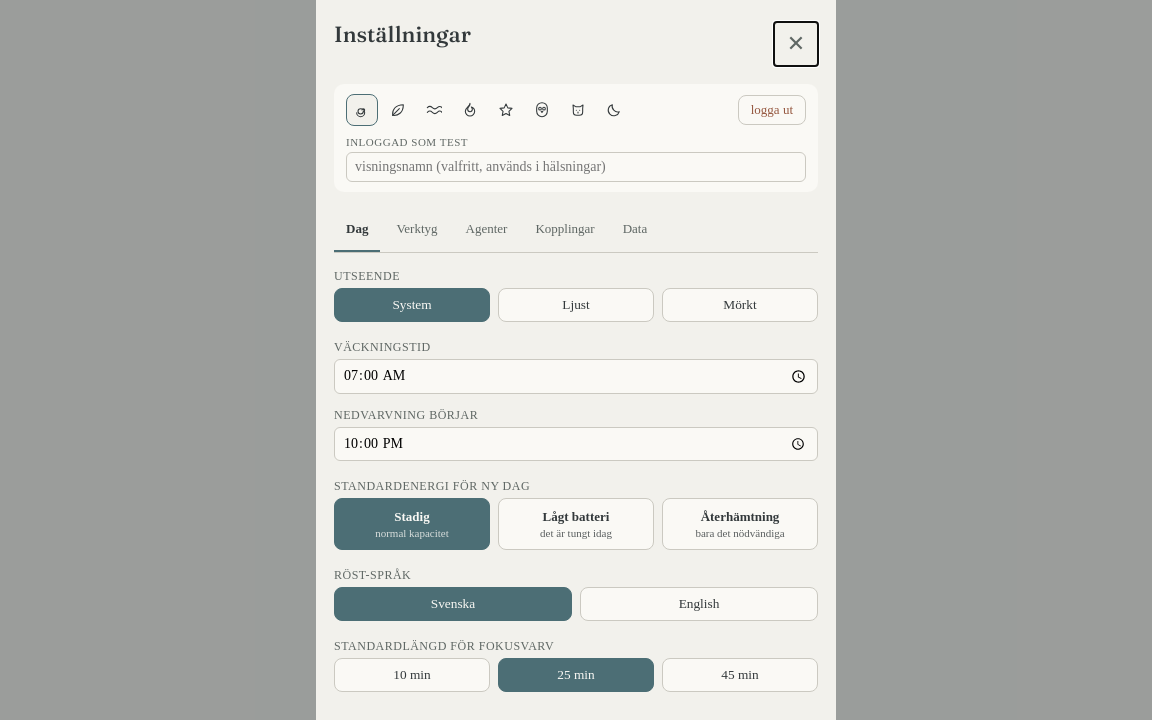
Test: UI usability safeguards › exposes settings as keyboard-oriented tabs with connections in the same dialog
Click the tab "Kopplingar" at (565, 230), box x1=523 y1=208 x2=607 y2=252
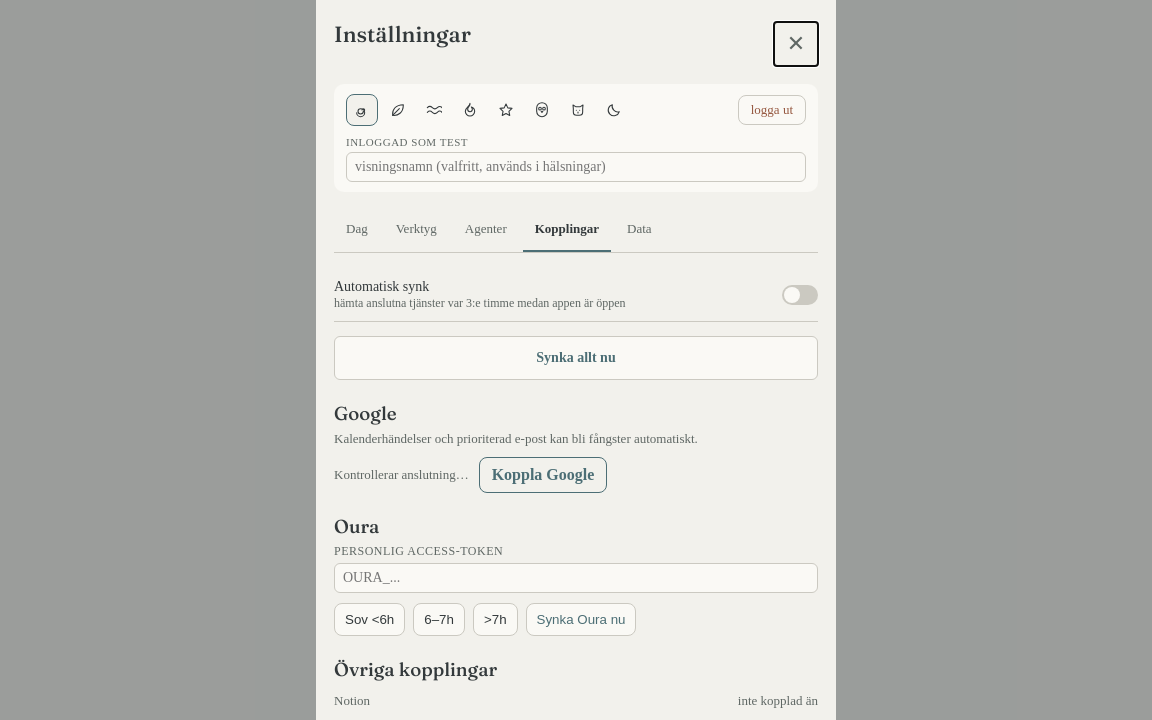
Check: the panel named "Kopplingar" is shown, box x1=334 y1=269 x2=818 y2=719
